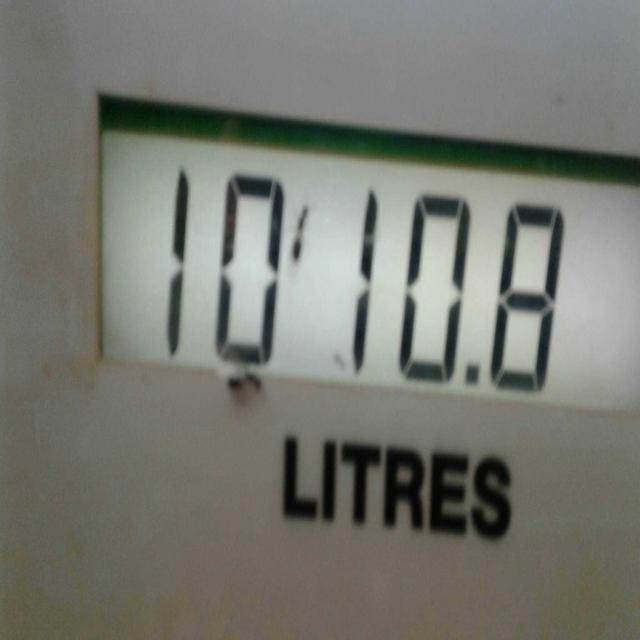.: (458, 340, 488, 398)
0: (203, 158, 290, 371), (391, 179, 469, 389)
1: (143, 156, 199, 366), (331, 179, 383, 372)
8: (482, 185, 577, 402)
